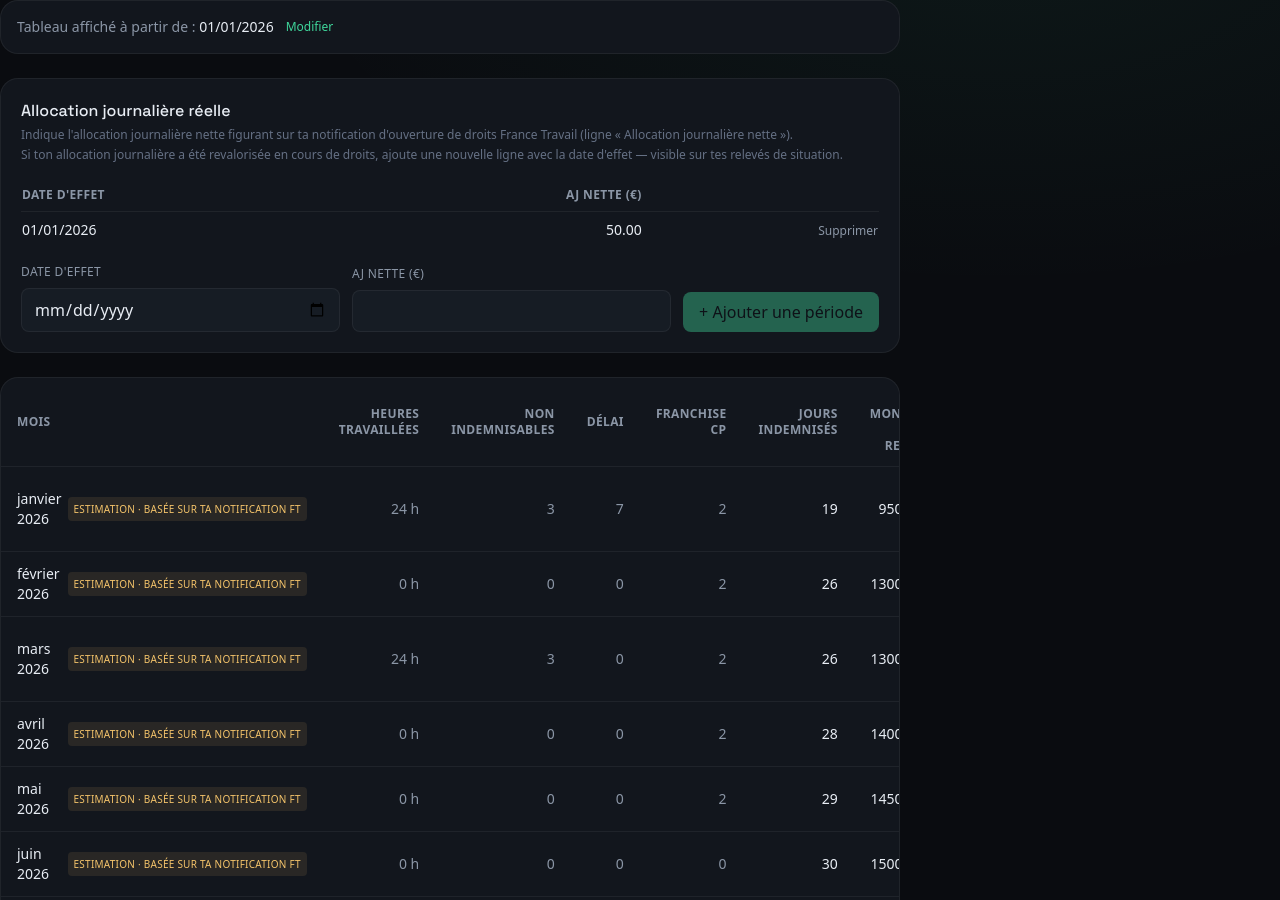
Test: SoldeRecap — bouton Modifier (RevenusMensuels.tsx, jamais vérifié qu'à la main jusqu'ici, cf. commit 2edb88e) › affiche la date de départ courante et bascule en édition au clic sur Modifier
This screenshot has width=1280, height=900.
Expected: the text "01/01/2026" is shown, [199,17,274,36]
Click the button "Modifier" at (309, 27), box [286,19,333,35]
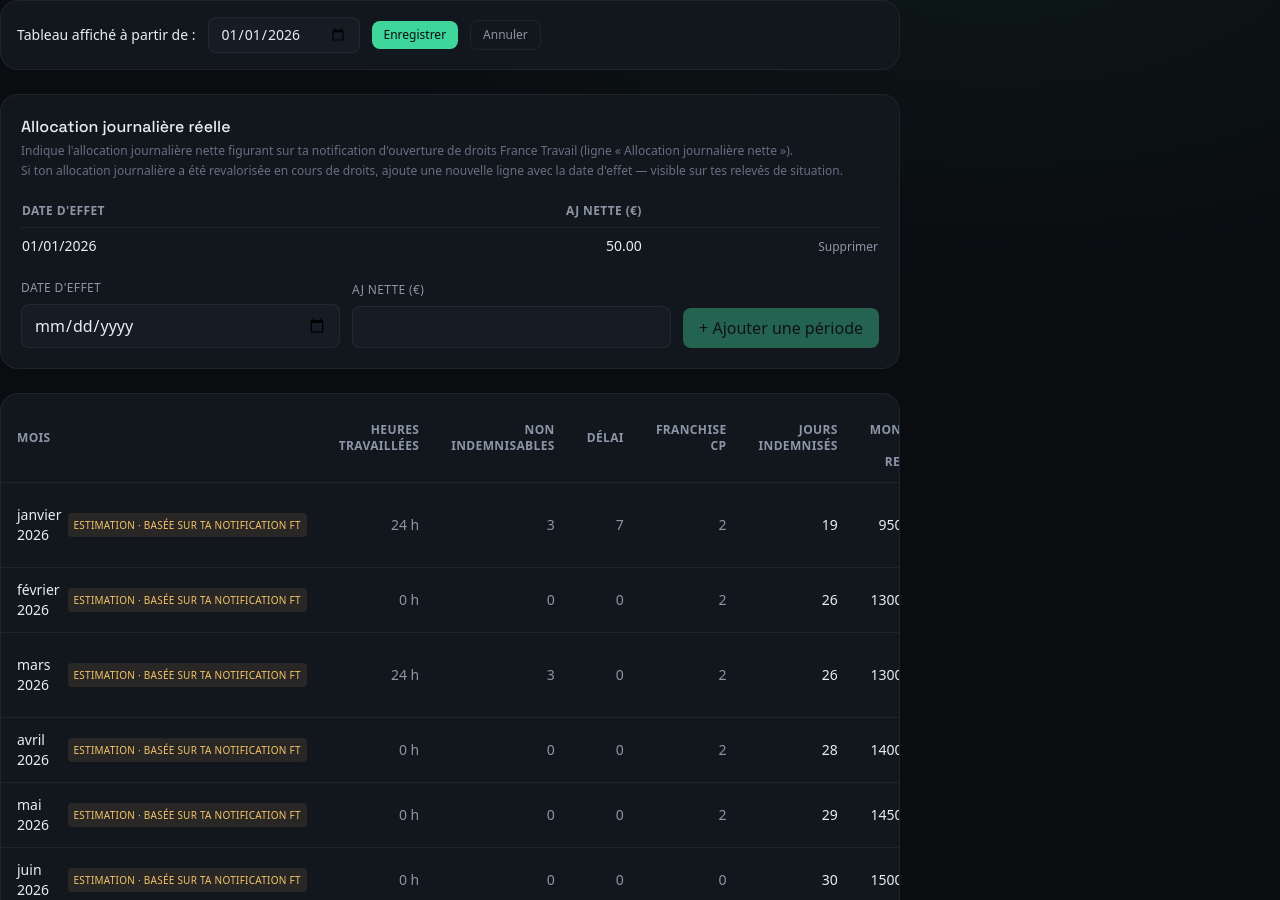
Now the date field labelled "Tableau affiché à partir de :" holds "2026-01-01", box [208,17,360,53]
